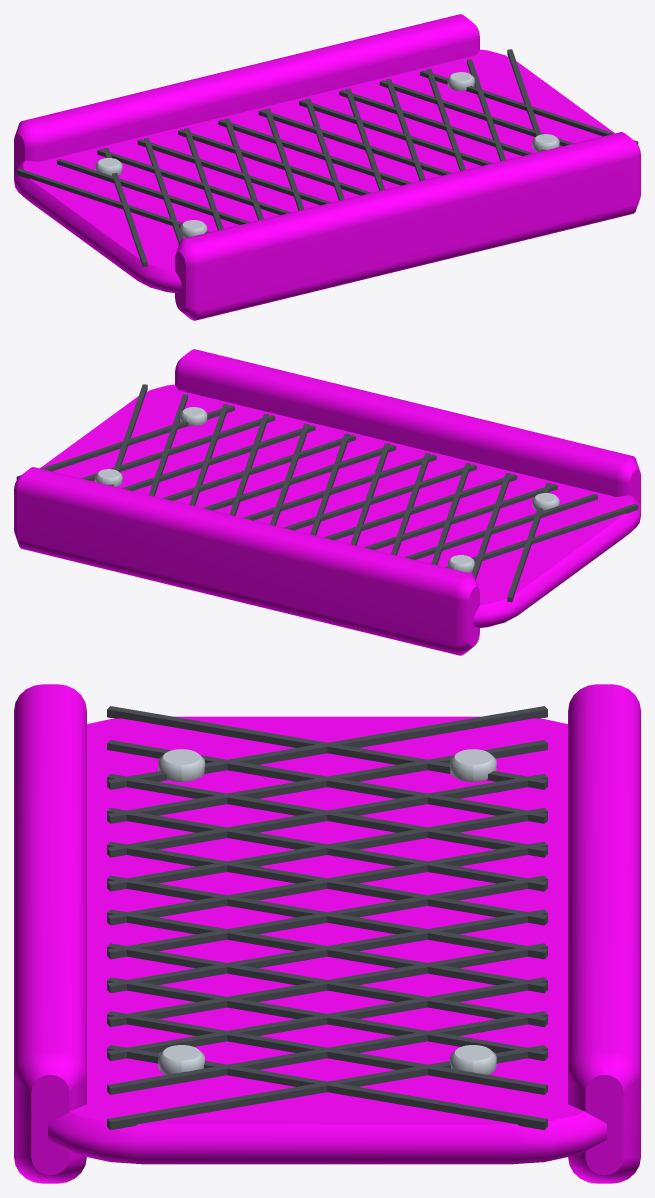
Rendered from objet_chassis_composite.glb.
3 views of the same model, one above another, from view 1: azimuth 30°, elevation 25°; view 2: azimuth 150°, elevation 25°; view 3: azimuth 270°, elevation 25° (orthographic). The views are drawn at different scales.
Visible parts, largest first — view 1: chassis_teinte.008, chassis_trame.002, chassis_boulon.004; view 2: chassis_teinte.008, chassis_trame.002, chassis_boulon.004; view 3: chassis_teinte.008, chassis_trame.002, chassis_boulon.004.
Boxes of the visible parts, x1=… form: chassis_teinte.008: x1=14, y1=14, x2=640, y2=320; chassis_trame.002: x1=16, y1=49, x2=638, y2=267; chassis_boulon.004: x1=95, y1=72, x2=559, y2=237; chassis_teinte.008: x1=14, y1=349, x2=640, y2=655; chassis_trame.002: x1=16, y1=384, x2=638, y2=602; chassis_boulon.004: x1=95, y1=407, x2=559, y2=572; chassis_teinte.008: x1=14, y1=684, x2=640, y2=1183; chassis_trame.002: x1=107, y1=706, x2=547, y2=1130; chassis_boulon.004: x1=158, y1=749, x2=496, y2=1074.
Bounding box in the file's own units: 0.34 × 0.05 × 0.215.
